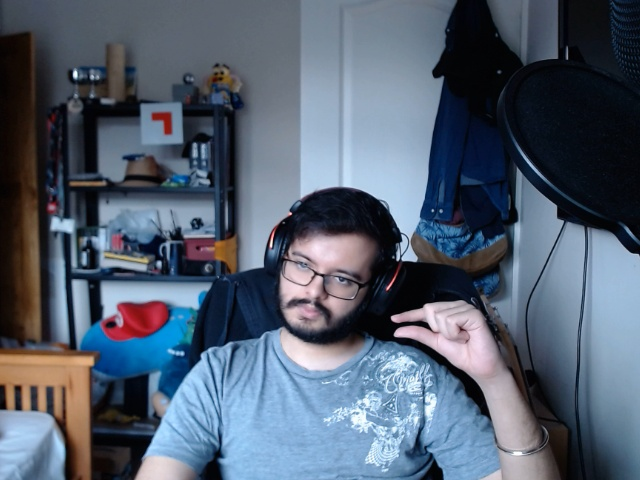Small: (389, 281, 513, 375)
